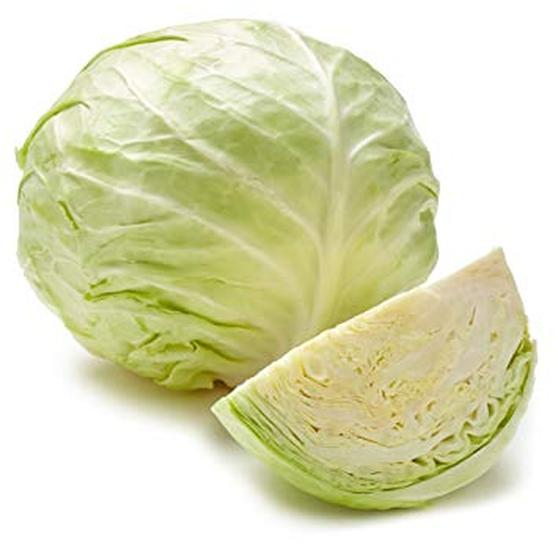cabbage: (14, 20, 448, 391)
